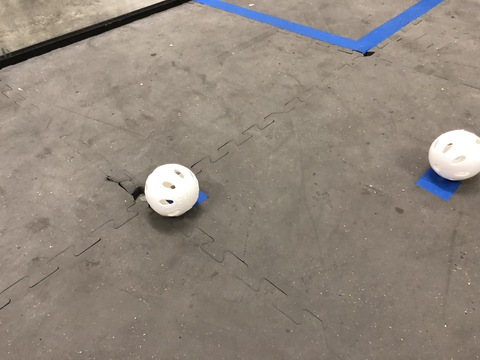ball: (131, 166, 217, 226)
